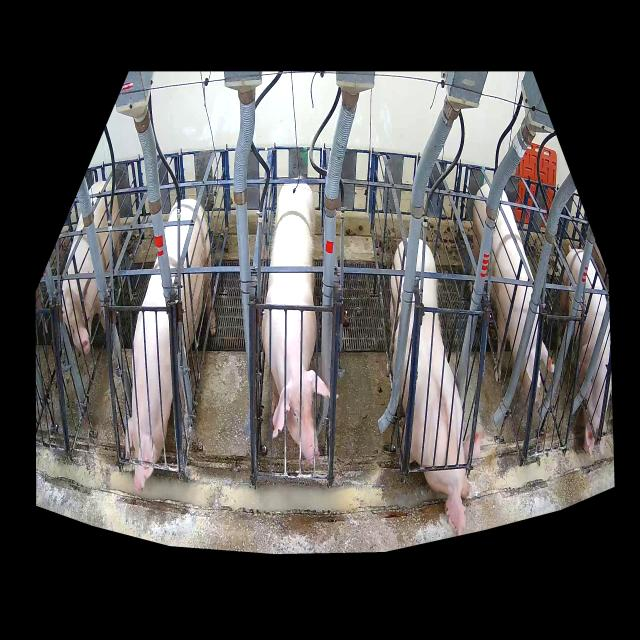pig: (390, 236, 484, 534), (126, 199, 216, 492), (261, 183, 330, 463), (468, 183, 554, 402), (556, 248, 611, 457), (62, 183, 120, 357)
